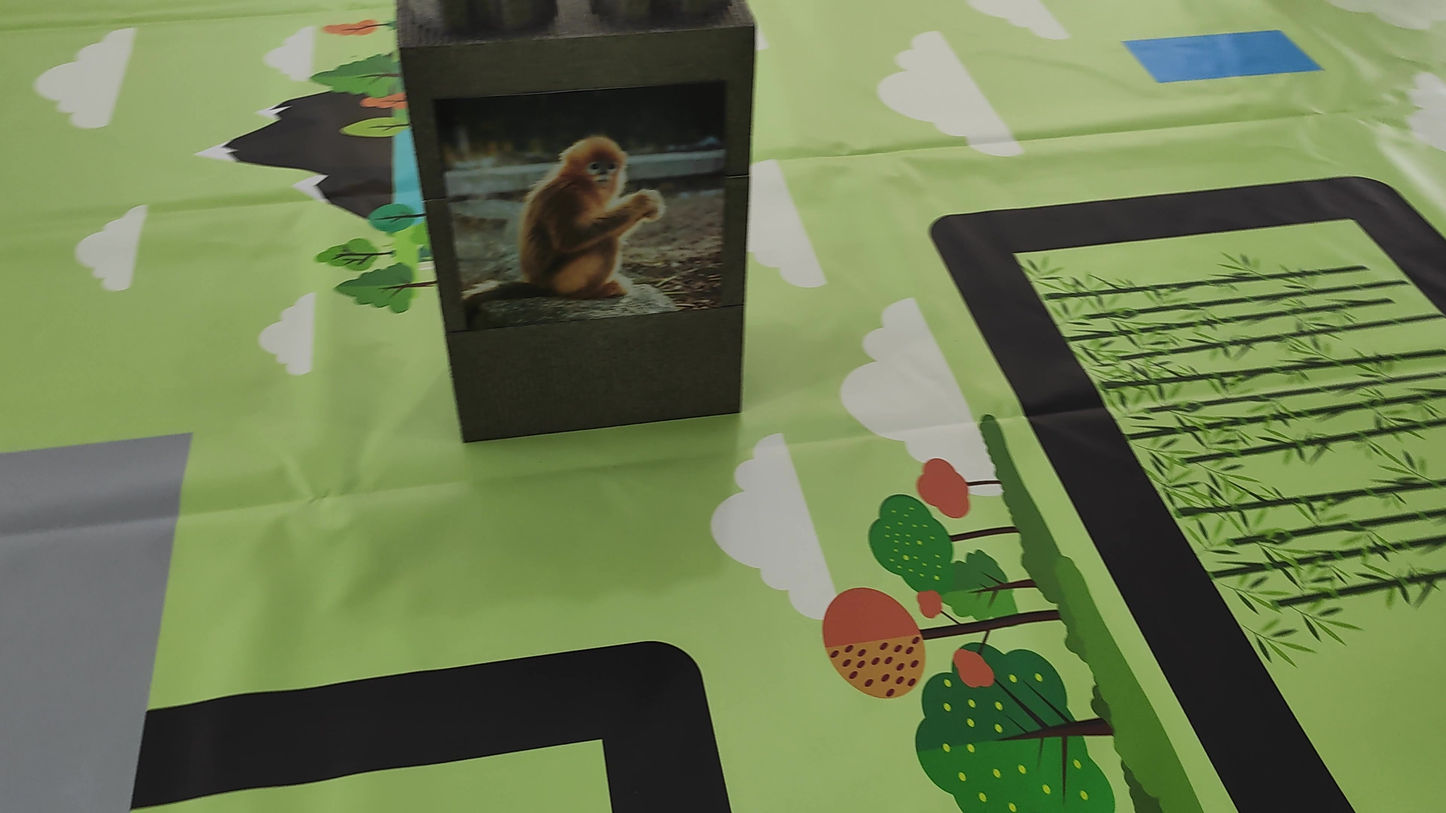monkey: (490, 109, 713, 335)
